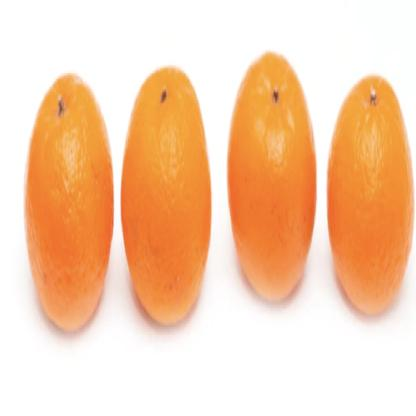fresh: (20, 41, 415, 345)
